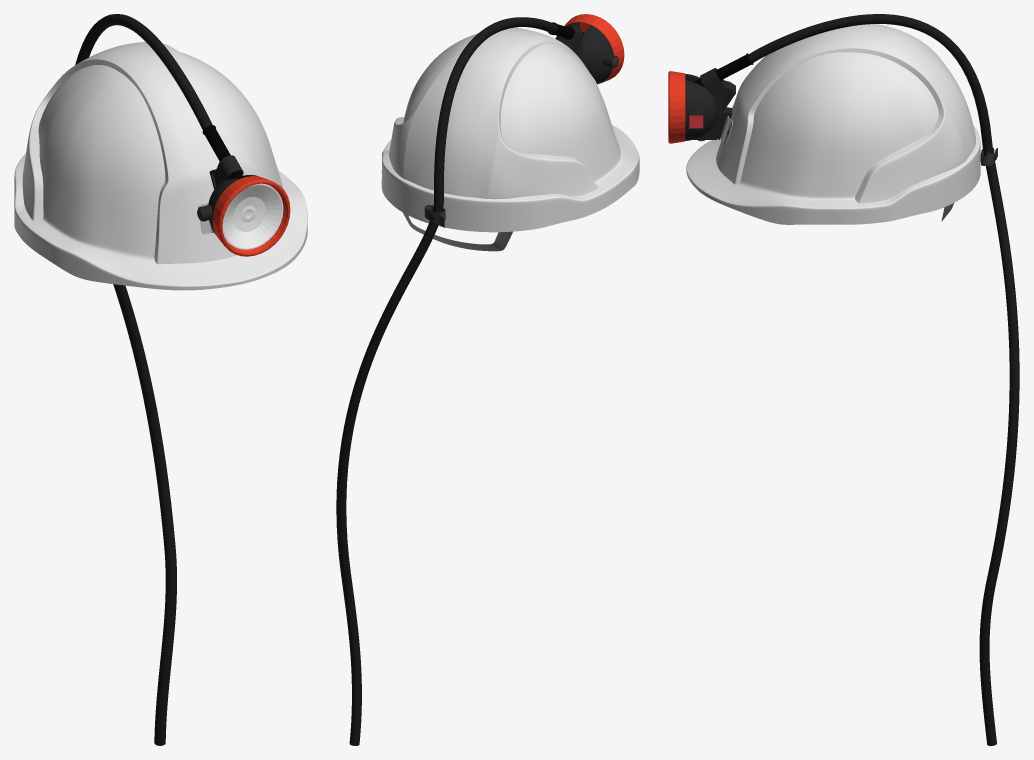
The model's file is Kasket Fener+Kablo.fbx.
3 views of the same model, side by side, from view 1: azimuth 30°, elevation 25°; view 2: azimuth 150°, elevation 25°; view 3: azimuth 270°, elevation 25° (orthographic). The views are drawn at different scales.
Visible parts, largest first — view 1: Kasket, BezierCurve; view 2: Kasket, BezierCurve; view 3: Kasket, BezierCurve.
Part boxes in pixels (left/top/right/bottom): Kasket: left=14, top=42, right=307, bottom=290; BezierCurve: left=75, top=14, right=212, bottom=745; Kasket: left=381, top=14, right=639, bottom=251; BezierCurve: left=336, top=17, right=557, bottom=745; Kasket: left=668, top=24, right=997, bottom=224; BezierCurve: left=748, top=14, right=1019, bottom=745.
Size of the model in its own units: 32.96 by 100 by 46.05.
